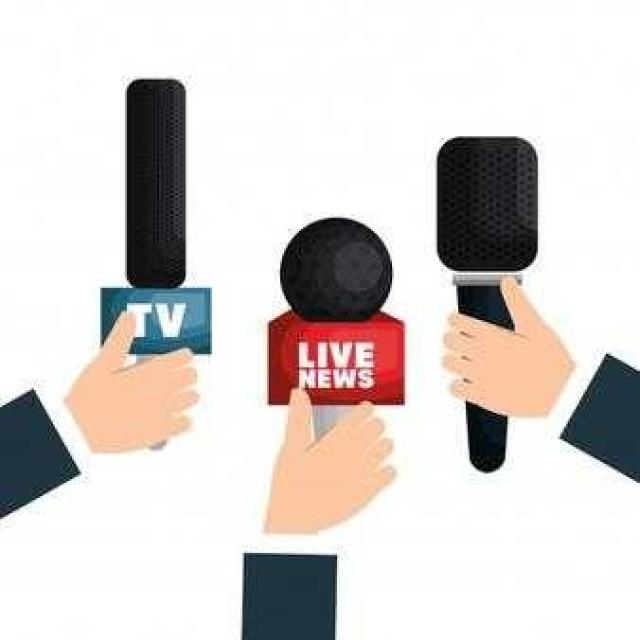microphone: (433, 133, 543, 476), (117, 76, 198, 448), (272, 219, 400, 438)
